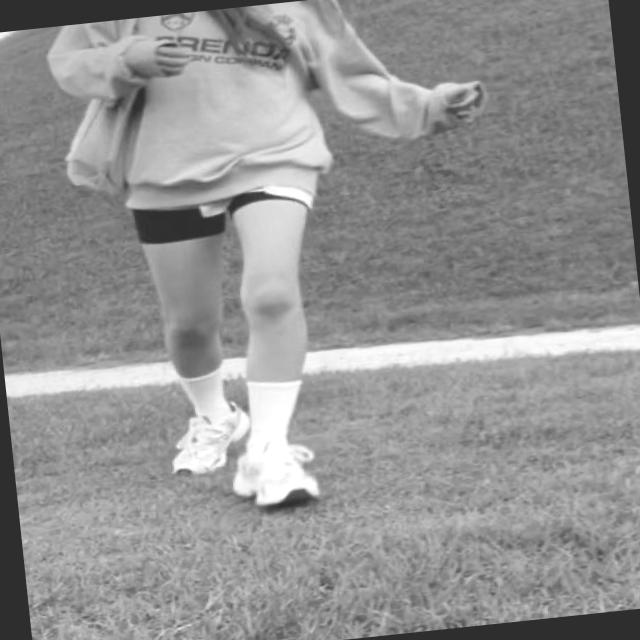mtm: (37, 0, 467, 222)
shortpants: (132, 166, 329, 252)
